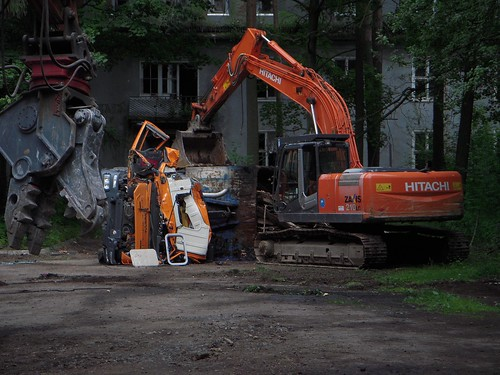building: (107, 1, 466, 180)
car: (99, 148, 219, 269)
excavator: (194, 42, 468, 270)
